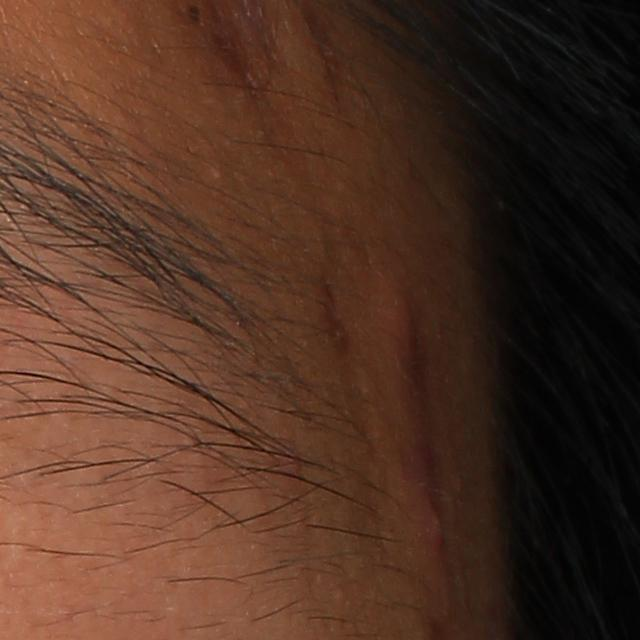comedo: (210, 165, 225, 181)
